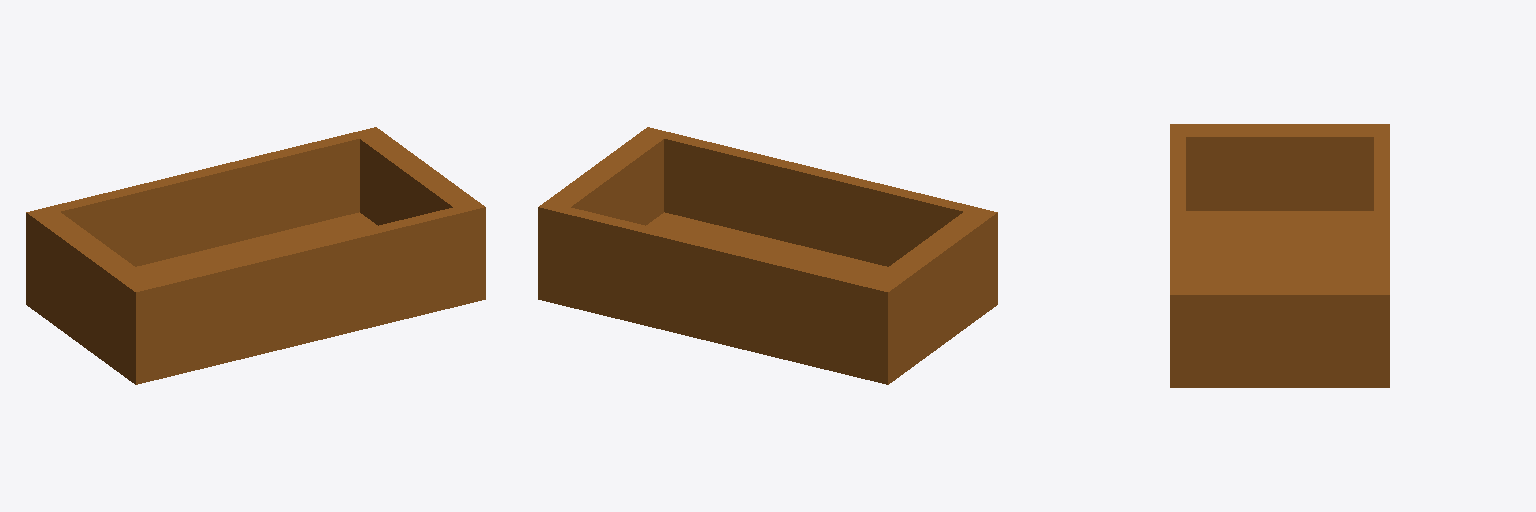
File: NewBoard.obj
3 views of the same model, side by side, from view 1: azimuth 30°, elevation 25°; view 2: azimuth 150°, elevation 25°; view 3: azimuth 270°, elevation 25° (orthographic).
Parts seen in each view (by area): view 1: Cube.001; view 2: Cube.001; view 3: Cube.001.
Part boxes in pixels (bbox=[...]): Cube.001: bbox=[26, 127, 485, 384]; Cube.001: bbox=[538, 127, 997, 384]; Cube.001: bbox=[1170, 124, 1389, 387].
Size of the model in its own units: 3.69 by 0.9318 by 2.